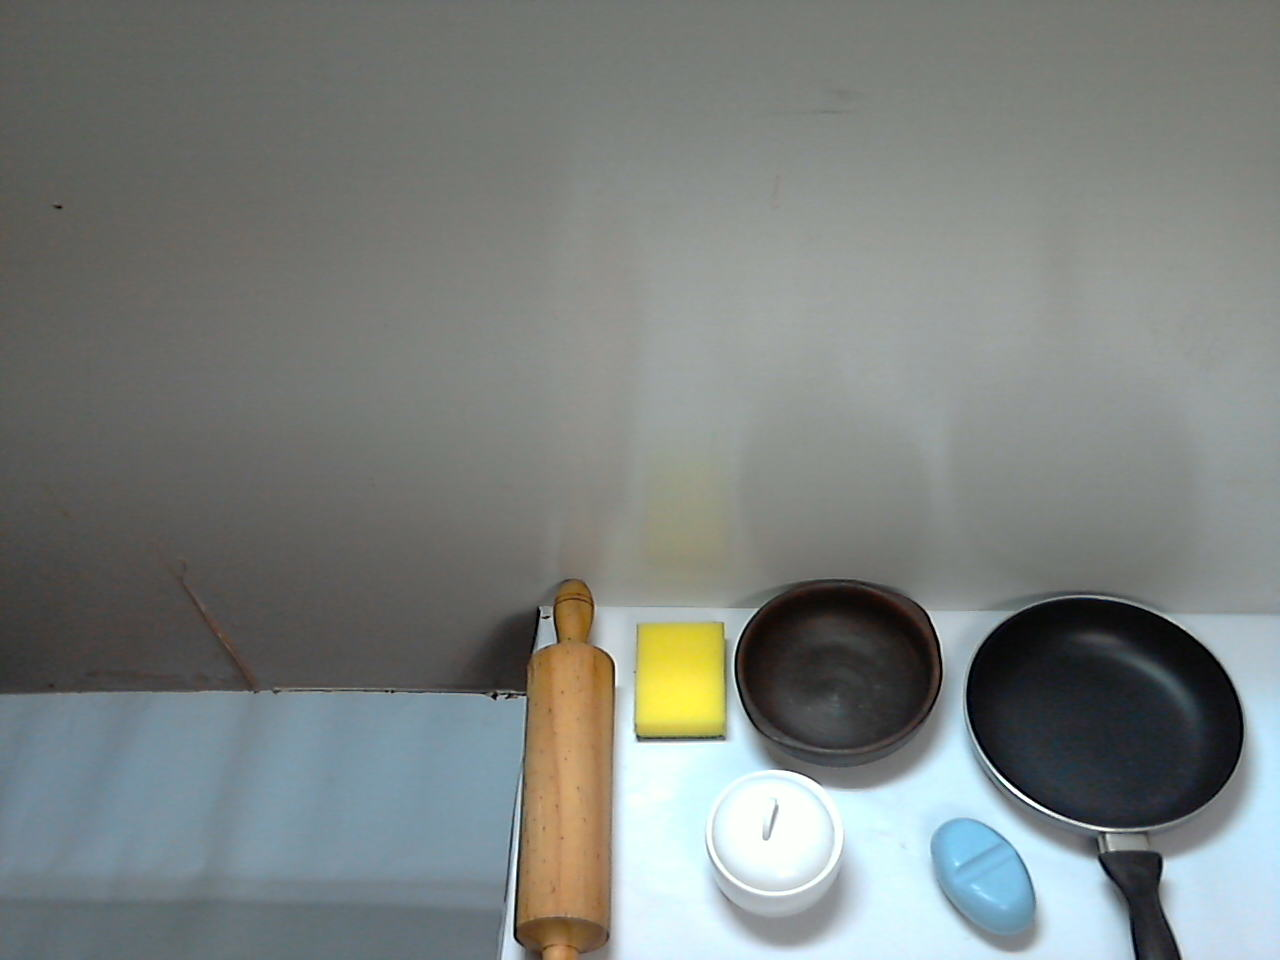borrador: (896, 763, 1124, 863)
esponja: (736, 753, 886, 879)
jabon: (936, 863, 1083, 960)
mostaza: (639, 801, 750, 960)
pepino: (763, 659, 1113, 775)
sarten: (410, 623, 750, 960)
